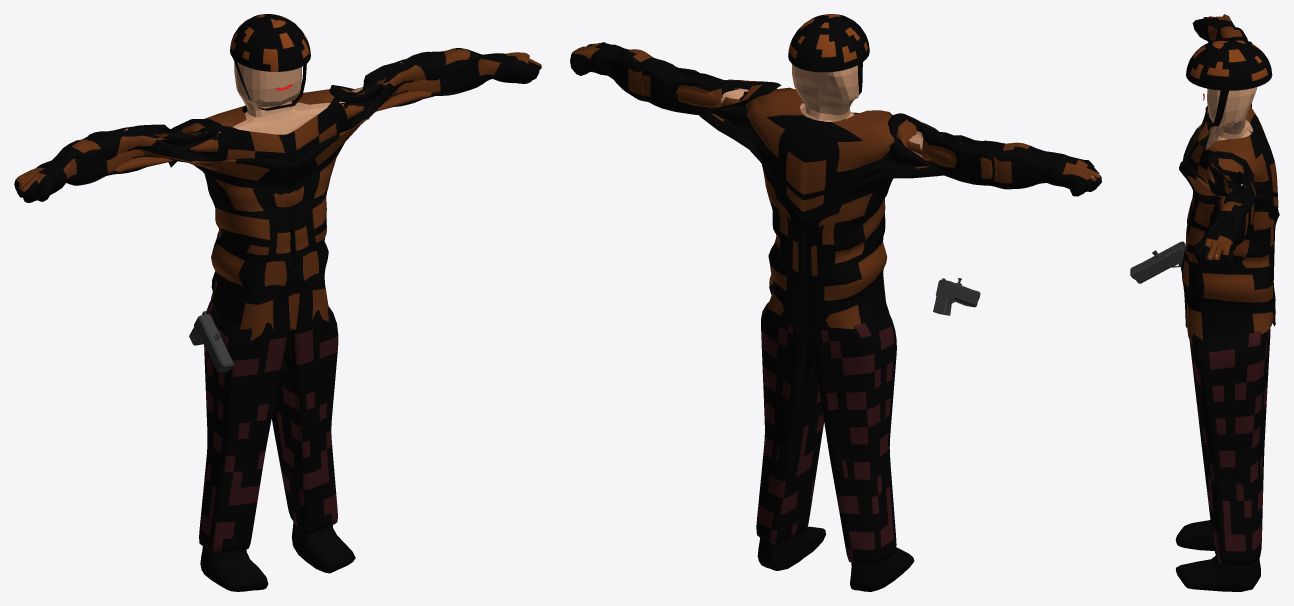
Rendered from tower_novovek.fbx.
The picture shows the model from 3 angles, left to right: view 1: azimuth 30°, elevation 25°; view 2: azimuth 150°, elevation 25°; view 3: azimuth 270°, elevation 25°; orthographic projection. The views are drawn at different scales.
Parts seen in each view (by area): view 1: kabat, kalhoty, telo, boty, Sphere.001, pistol; view 2: kabat, kalhoty, Sphere.001, boty, telo, pistol; view 3: kabat, kalhoty, Sphere.001, boty, telo, pistol.
Part boxes in pixels (x1,y1,x2,y2): kabat: [14, 48, 541, 340]; kalhoty: [199, 299, 338, 552]; telo: [217, 62, 345, 137]; boty: [200, 522, 355, 591]; Sphere.001: [230, 14, 310, 110]; pistol: [189, 311, 234, 372]; kabat: [570, 42, 1101, 331]; kalhoty: [756, 301, 896, 564]; Sphere.001: [788, 14, 869, 94]; boty: [757, 526, 914, 591]; telo: [792, 64, 858, 121]; pistol: [933, 278, 980, 315]; kabat: [1179, 14, 1279, 345]; kalhoty: [1189, 328, 1270, 564]; Sphere.001: [1186, 38, 1272, 126]; boty: [1175, 520, 1260, 591]; telo: [1205, 87, 1256, 149]; pistol: [1130, 241, 1185, 283].
Bounding box in the file's own units: 346 × 348 × 89.65.
